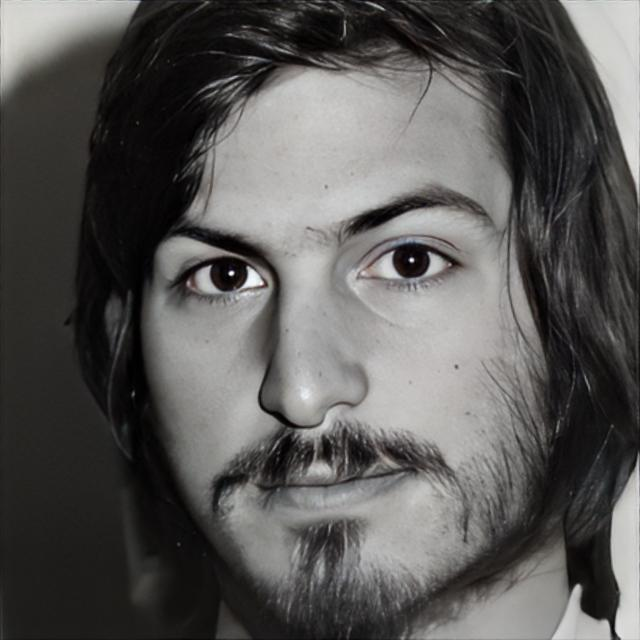neutral: (135, 73, 568, 634)
